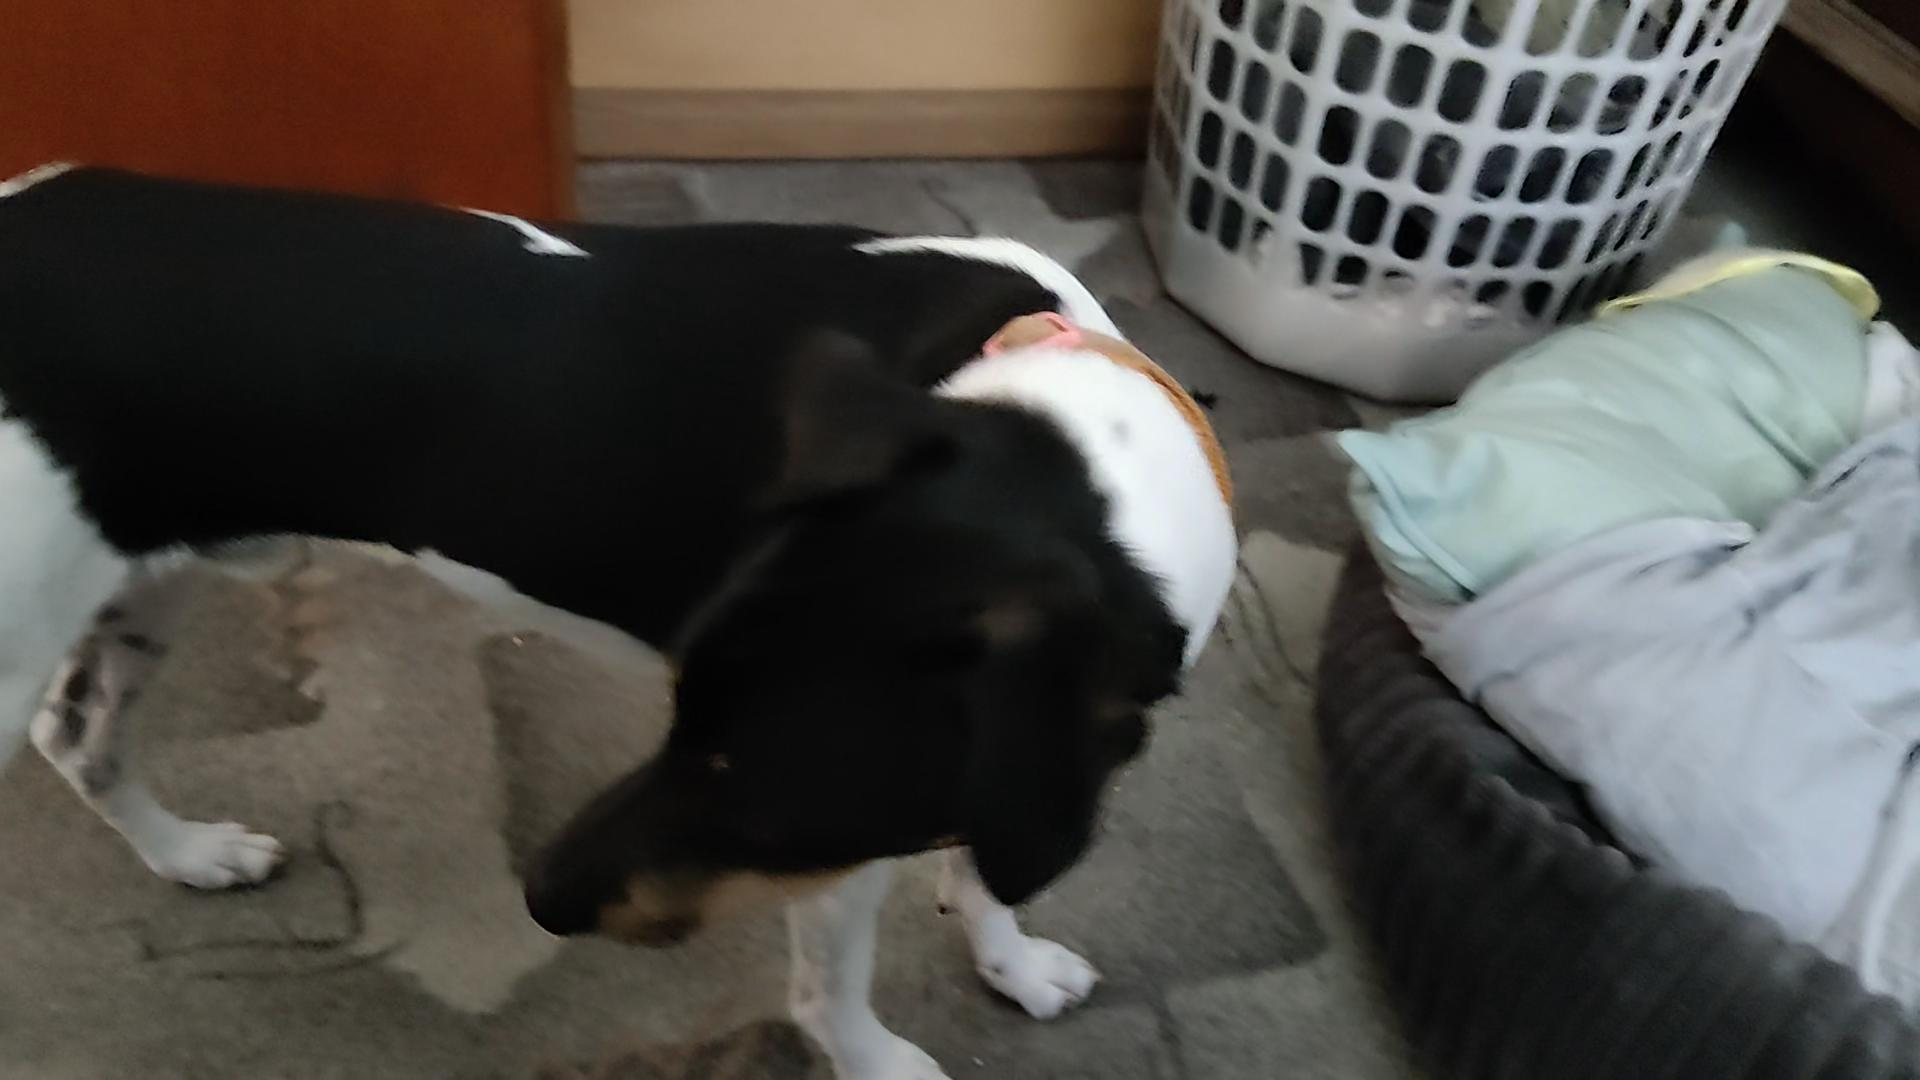Dog: (0, 160, 1245, 1079)
